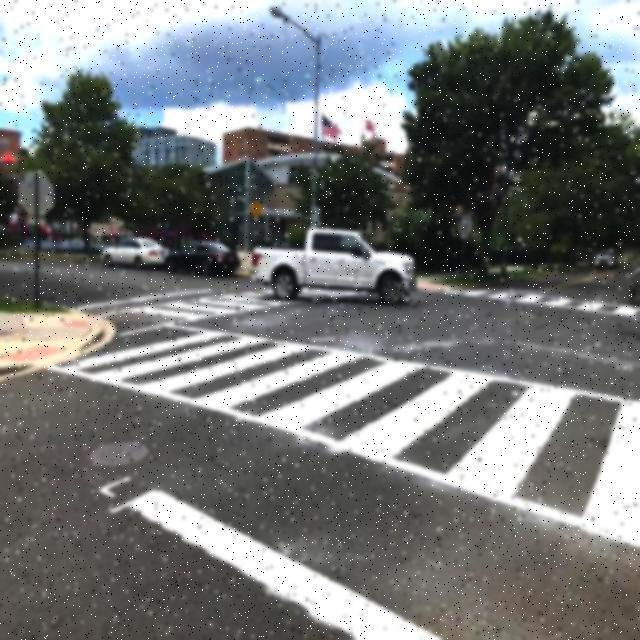crosswalk: (65, 325, 638, 565), (103, 286, 317, 334), (466, 274, 640, 332)
